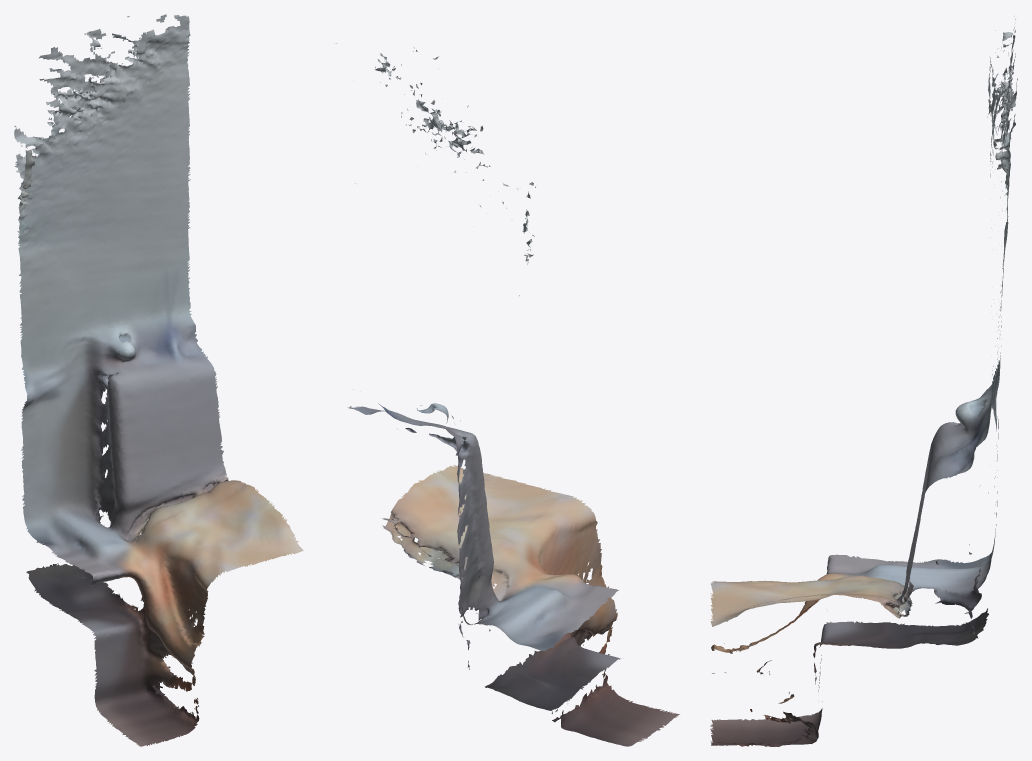
Rendered from apartment-full-22-6c806d56c7d7.glb.
3 views of the same model, side by side, from view 1: azimuth 30°, elevation 25°; view 2: azimuth 150°, elevation 25°; view 3: azimuth 270°, elevation 25° (orthographic). The views are drawn at different scales.
Size of the model in its own units: 0.582 by 2.07 by 0.769.
